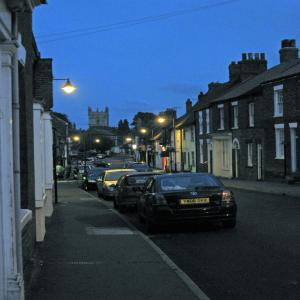Vehicle-registration-plate: (181, 200, 209, 206)
